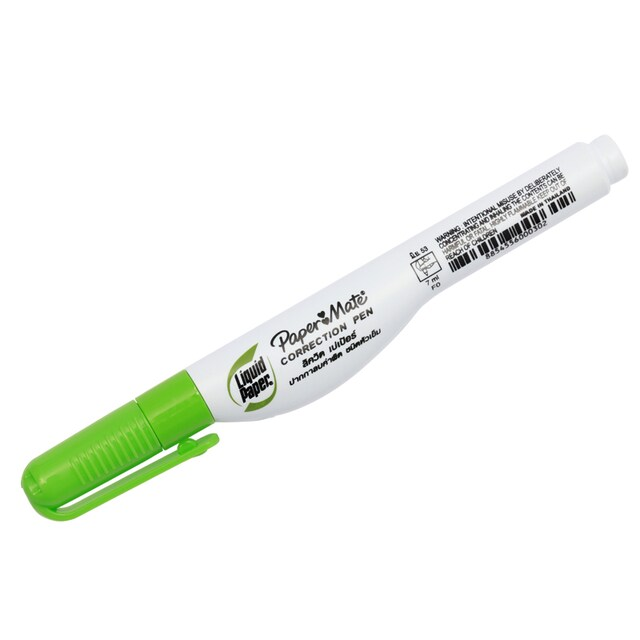Correction_fluid: (15, 125, 635, 530)
